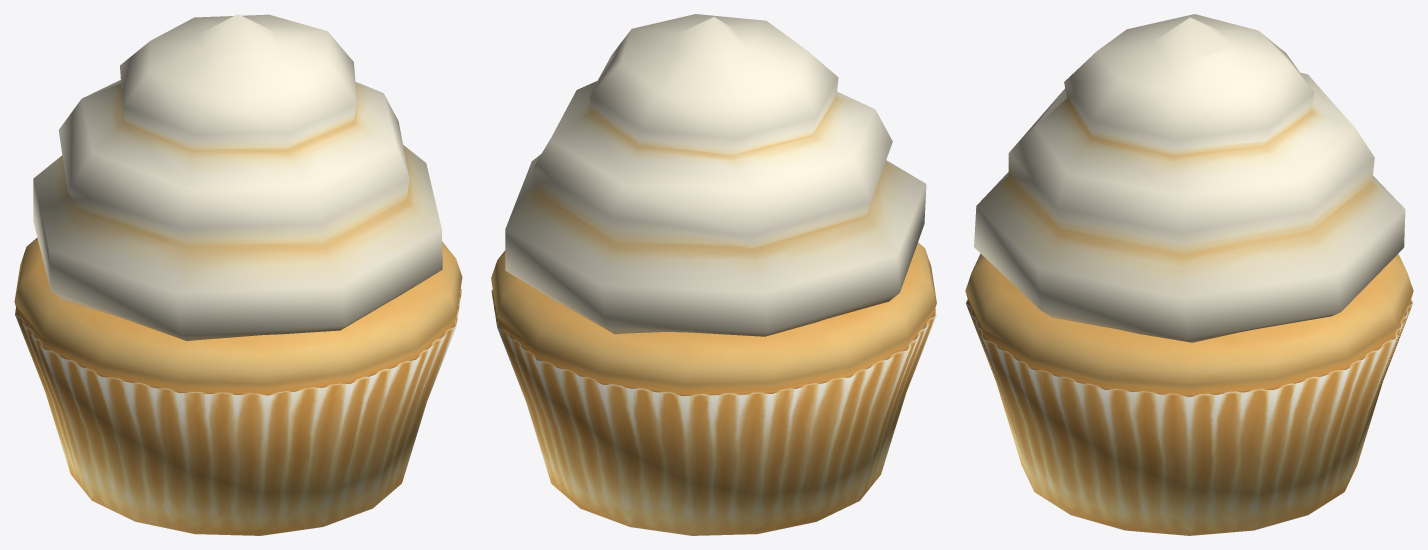
The model's file is Cupcake.fbx.
3 renders of one model, left to right at view 1: azimuth 30°, elevation 25°; view 2: azimuth 150°, elevation 25°; view 3: azimuth 270°, elevation 25°, orthographic.
Parts seen in each view (by area): view 1: Cupcake; view 2: Cupcake; view 3: Cupcake.
Part boxes in pixels (x1,y1,x2,y2): Cupcake: (14,14,462,535); Cupcake: (491,14,936,535); Cupcake: (965,14,1413,535).
Bounding box in the file's own units: 184 × 203 × 184.
Materials: 1 (1 with a texture image).
